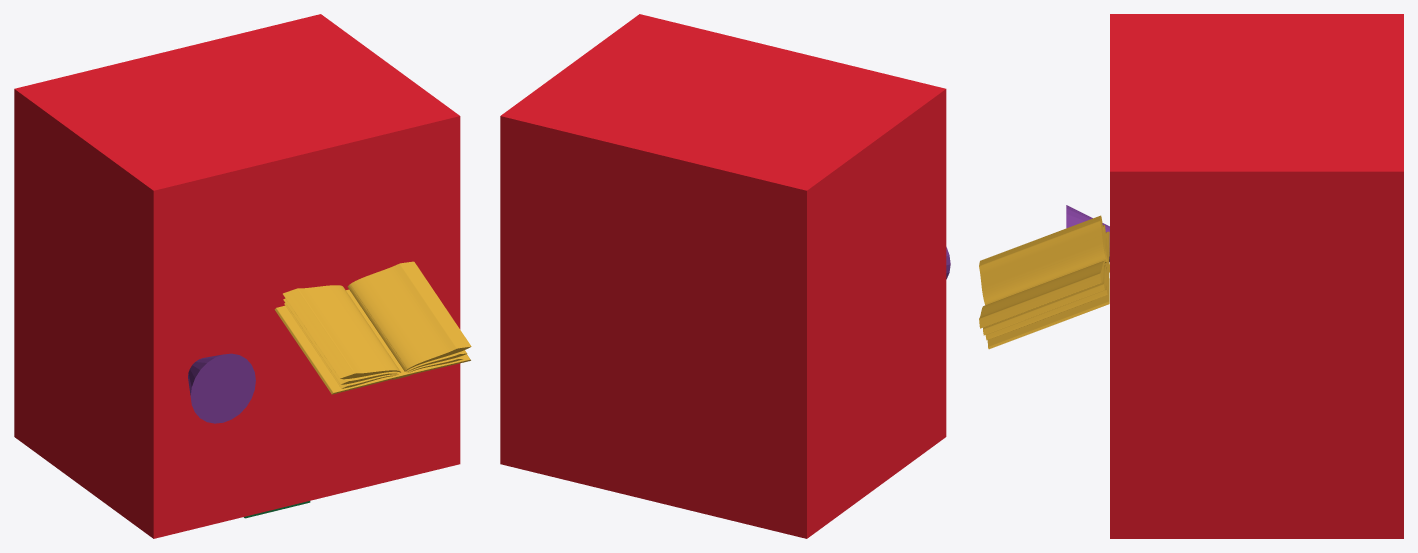
Rendered from tinker.obj.
The picture shows the model from 3 angles, left to right: view 1: azimuth 30°, elevation 25°; view 2: azimuth 150°, elevation 25°; view 3: azimuth 270°, elevation 25°; orthographic projection. The views are drawn at different scales.
Parts seen in each view (by area): view 1: group_0_15277357, group_0_14789940, group_0_8273816; view 2: group_0_15277357; view 3: group_0_15277357, group_0_14789940.
Boxes of the visible parts, <box> form: group_0_15277357: <box>14,14,460,538</box>; group_0_14789940: <box>274,261,471,394</box>; group_0_8273816: <box>188,353,255,423</box>; group_0_15277357: <box>500,14,946,538</box>; group_0_15277357: <box>1110,14,1403,538</box>; group_0_14789940: <box>979,215,1109,349</box>.
Bounding box in the file's own units: 94 × 109 × 107.
